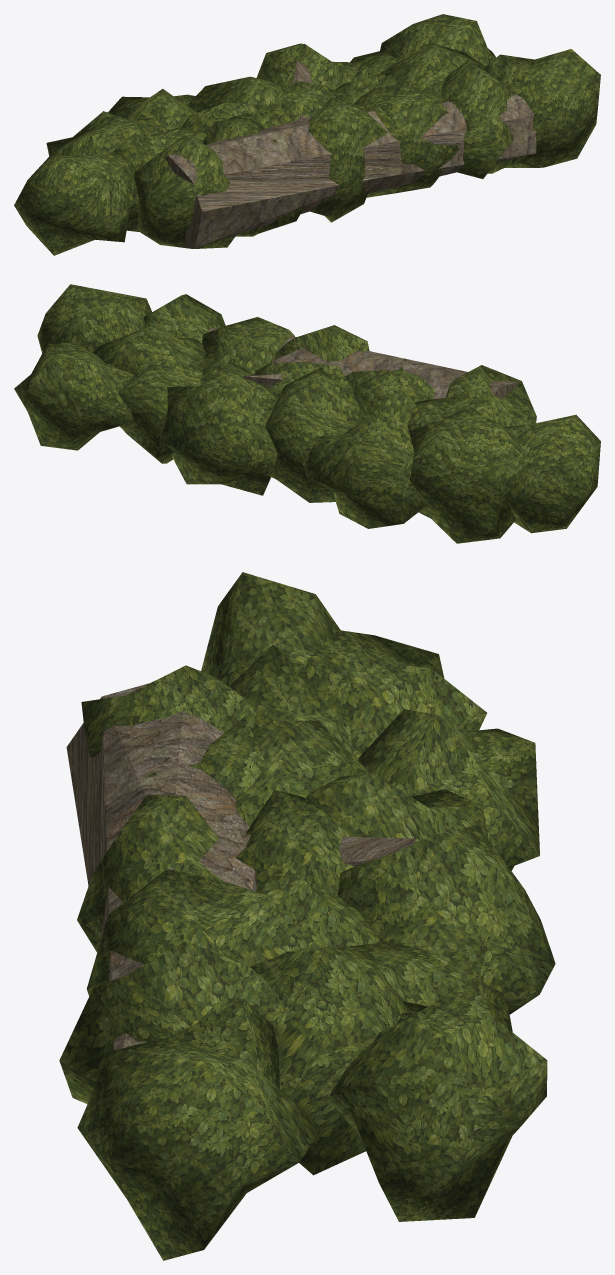
File: fallen_log_a.gltf
3 renders of one model, top to bottom at view 1: azimuth 30°, elevation 25°; view 2: azimuth 150°, elevation 25°; view 3: azimuth 270°, elevation 25°, orthographic. The views are drawn at different scales.
Visible parts, largest first — view 1: fallen_log_a_game; view 2: fallen_log_a_game; view 3: fallen_log_a_game.
Part boxes in pixels (x1,y1,x2,y2): fallen_log_a_game: (14,14,600,255); fallen_log_a_game: (14,284,600,543); fallen_log_a_game: (59,572,555,1260).
Size of the model in its own units: 0.7773 by 0.1677 by 0.3019.
2 materials, 2 textured.
